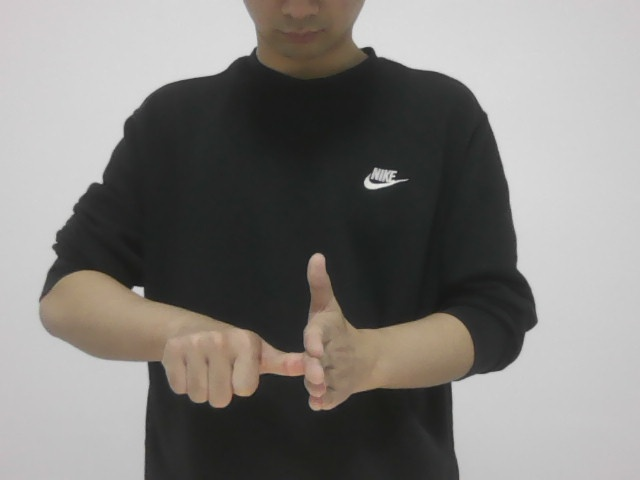time: (158, 246, 373, 416)
